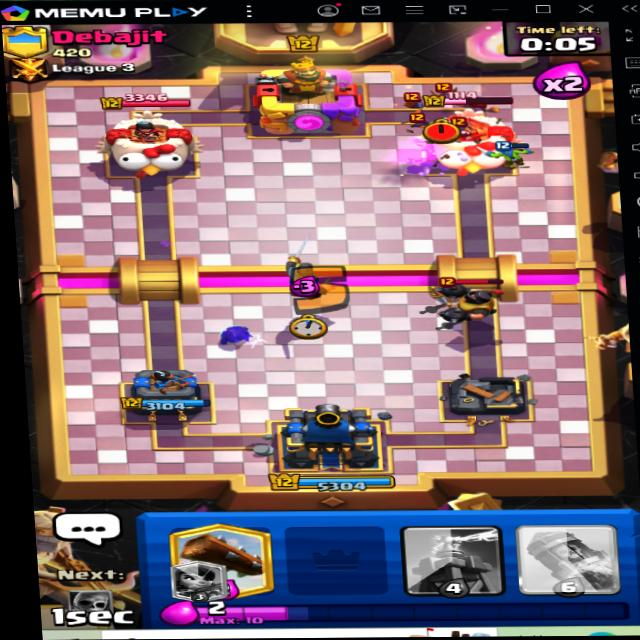Bat: (398, 116, 438, 133), (446, 118, 475, 140), (396, 90, 424, 112), (428, 75, 456, 97)
Megaknight: (412, 269, 533, 337)
